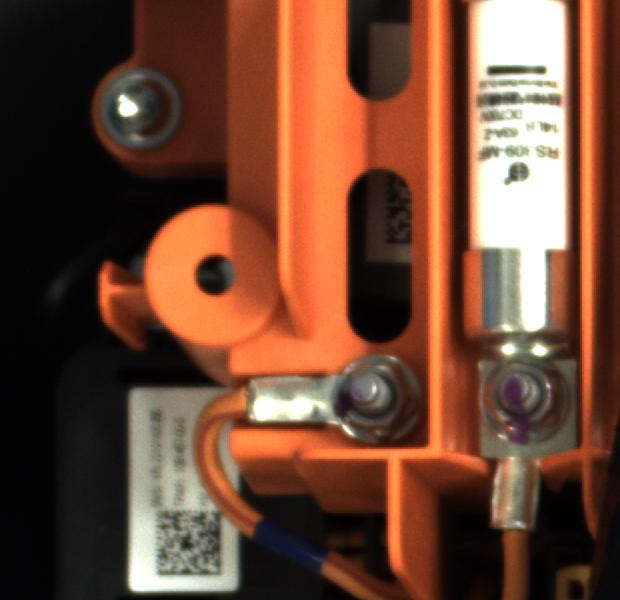screw_m: (90, 61, 186, 160)
screw_s: (472, 357, 569, 447), (329, 349, 415, 441)
